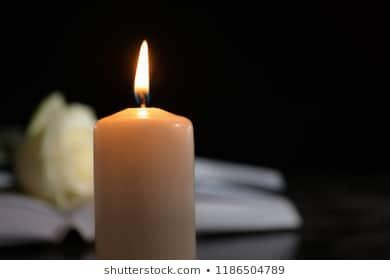fire: (131, 35, 152, 107)
